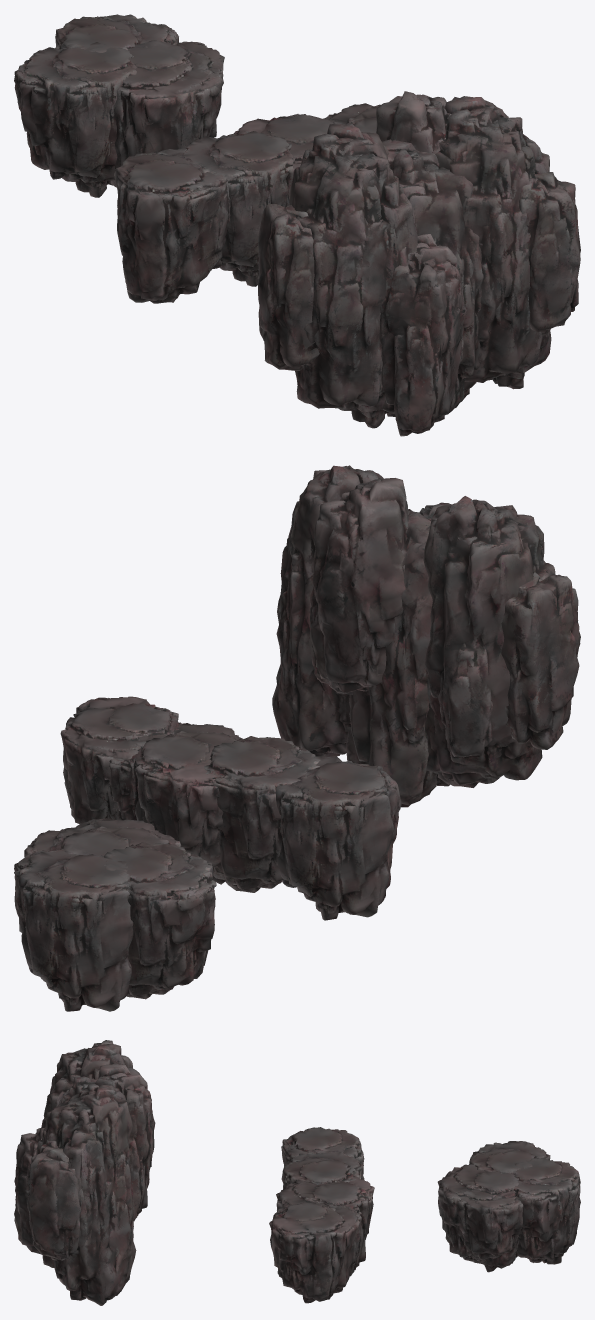
The model's file is RocksG.FBX.
3 renders of one model, top to bottom at view 1: azimuth 30°, elevation 25°; view 2: azimuth 150°, elevation 25°; view 3: azimuth 270°, elevation 25°, orthographic. The views are drawn at different scales.
Parts seen in each view (by area): view 1: DarkRock_G2, DarkRock_GF2, DarkRock_GF1; view 2: DarkRock_G2, DarkRock_GF1, DarkRock_GF2; view 3: DarkRock_G2, DarkRock_GF2, DarkRock_GF1.
Boxes of the visible parts, <box> form: DarkRock_G2: <box>258,91,580,436</box>; DarkRock_GF2: <box>14,14,224,197</box>; DarkRock_GF1: <box>114,103,380,303</box>; DarkRock_G2: <box>272,465,580,807</box>; DarkRock_GF1: <box>60,696,401,920</box>; DarkRock_GF2: <box>14,818,216,1011</box>; DarkRock_G2: <box>14,1040,155,1305</box>; DarkRock_GF2: <box>437,1141,580,1272</box>; DarkRock_GF1: <box>269,1127,374,1303</box>.
Size of the model in its own units: 1596 by 1449 by 3296.
Materials: 1 (1 with a texture image).
